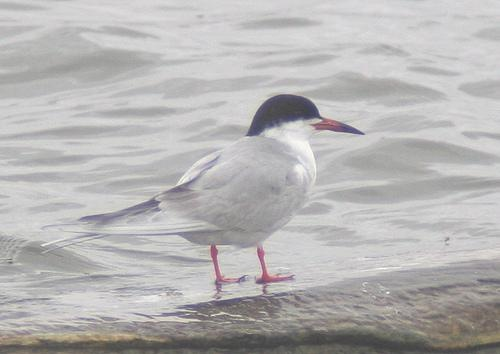bird: (37, 93, 368, 292)
